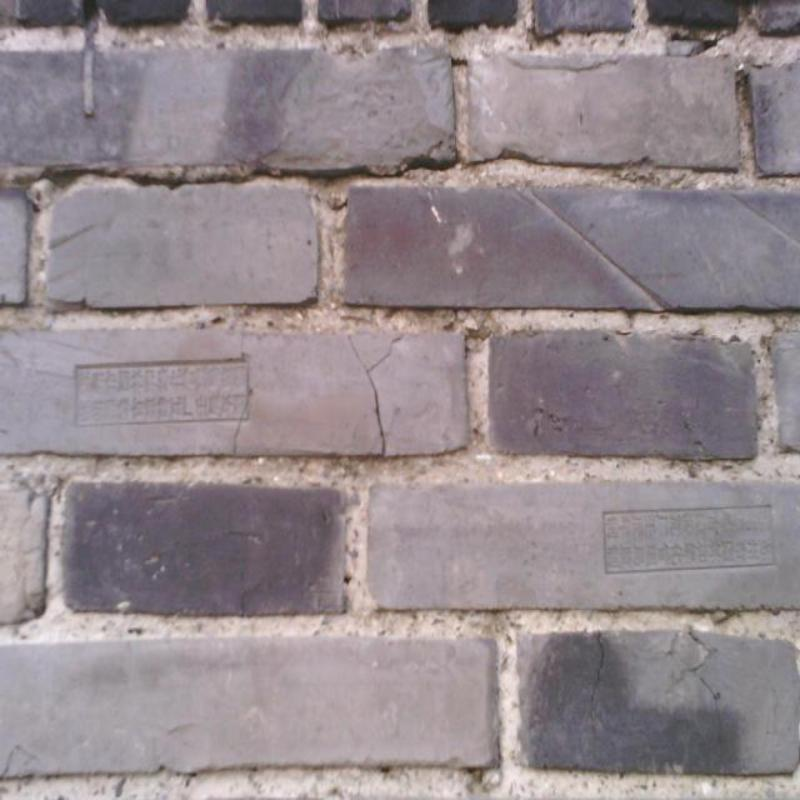pothole: (52, 152, 582, 190), (348, 334, 408, 459), (504, 55, 622, 71), (233, 388, 253, 455), (683, 632, 713, 673), (700, 676, 723, 726), (590, 633, 605, 706), (451, 59, 468, 66)
